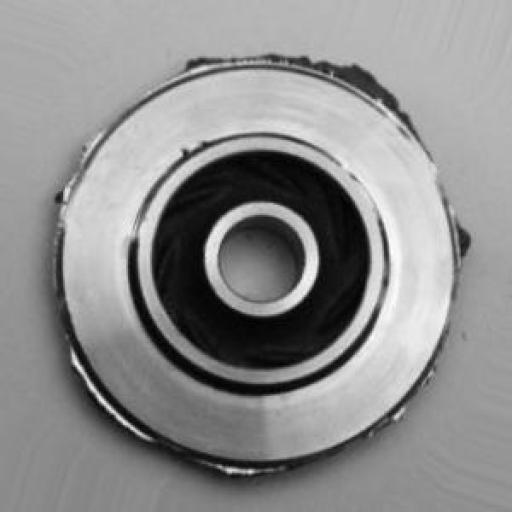defect: (34, 30, 478, 482)
